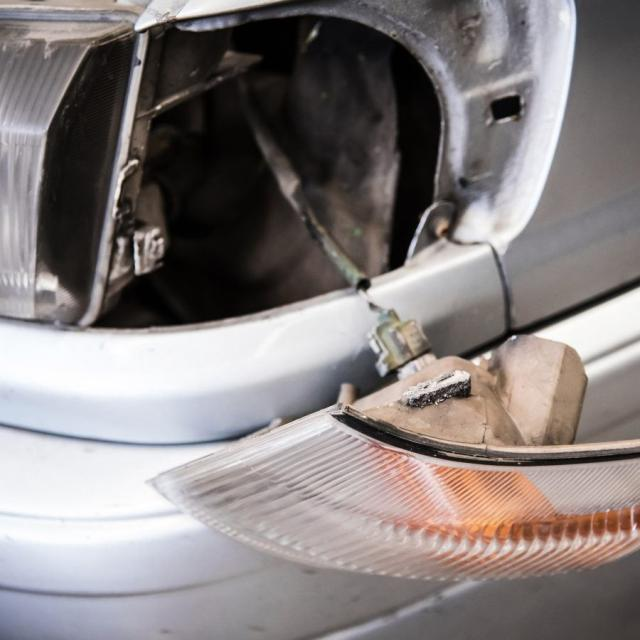Head Light: (21, 0, 640, 584)
